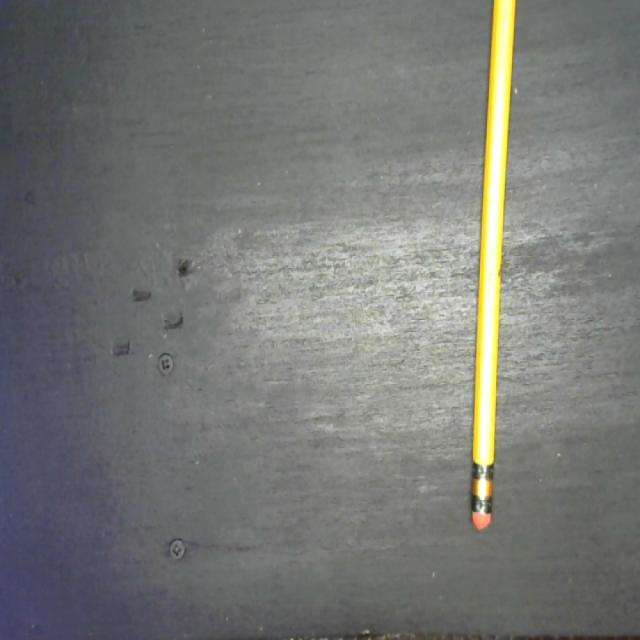biodegradable: (465, 0, 518, 539)
